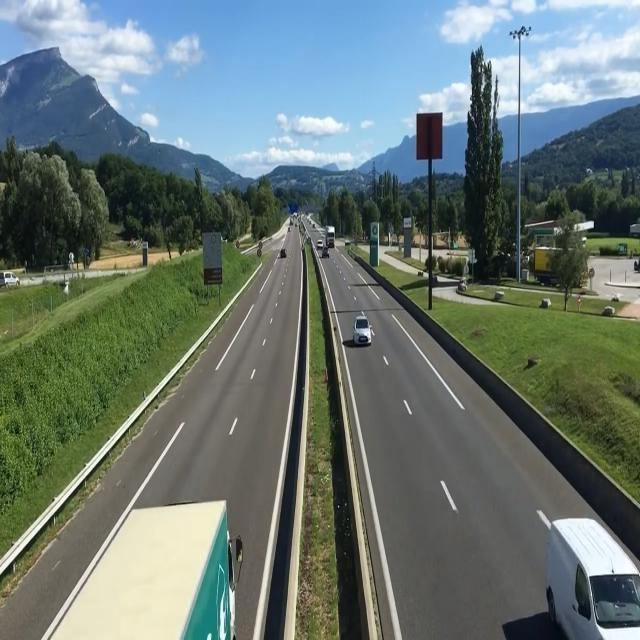Car: (352, 315, 373, 346), (0, 270, 22, 286), (322, 248, 330, 259), (316, 240, 324, 248)
Truck: (37, 499, 244, 640), (325, 225, 337, 247)
Van: (546, 516, 640, 640)
